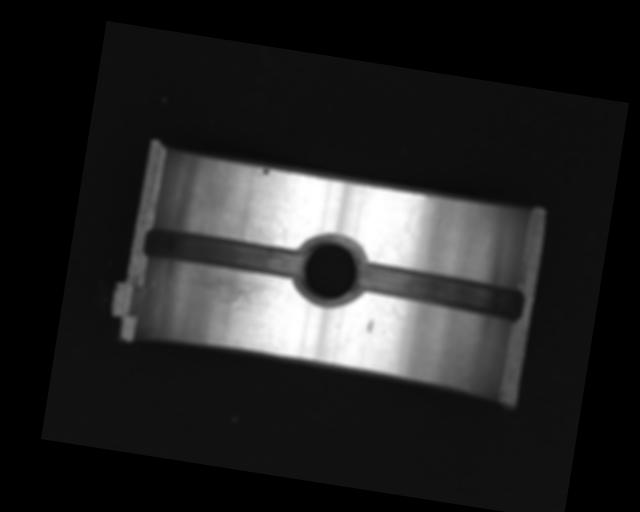blot: (260, 167, 269, 177)
bruise: (365, 317, 374, 333)
gap: (352, 261, 525, 323), (143, 225, 304, 282)
hole: (290, 229, 368, 308)
nick: (397, 213, 418, 268)
scratch: (180, 269, 282, 315)
